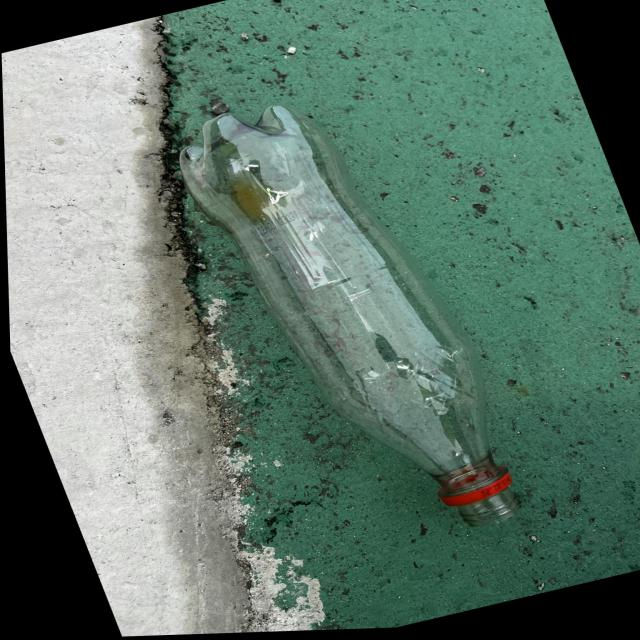empty: (180, 106, 520, 526)
